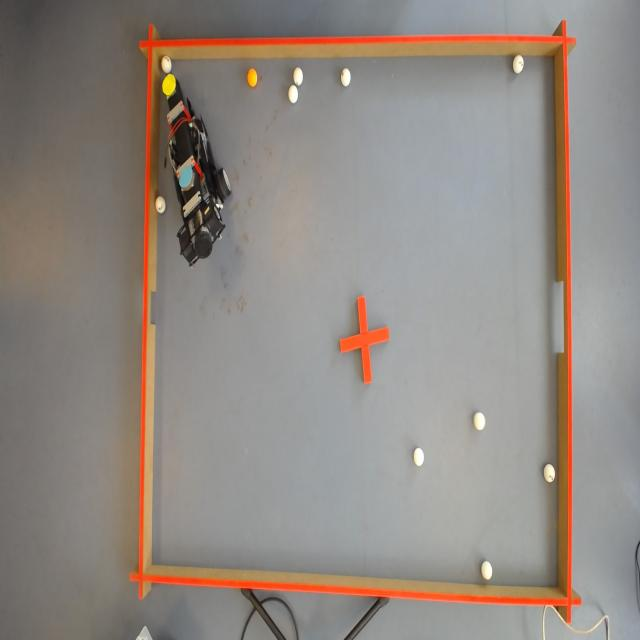orange: (245, 66, 258, 87)
robot: (168, 82, 226, 264)
robot-front: (162, 74, 177, 96)
robot-rear: (178, 166, 193, 187)
white: (481, 562, 494, 582), (474, 411, 487, 431), (412, 446, 425, 466), (512, 56, 526, 74), (544, 465, 557, 483), (289, 86, 300, 105), (341, 67, 352, 85), (156, 197, 168, 212), (294, 66, 304, 82), (162, 56, 172, 70)
